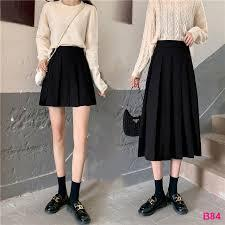skirt: (138, 39, 201, 160), (33, 48, 103, 108)
sweater: (32, 0, 109, 64), (133, 0, 219, 49)
